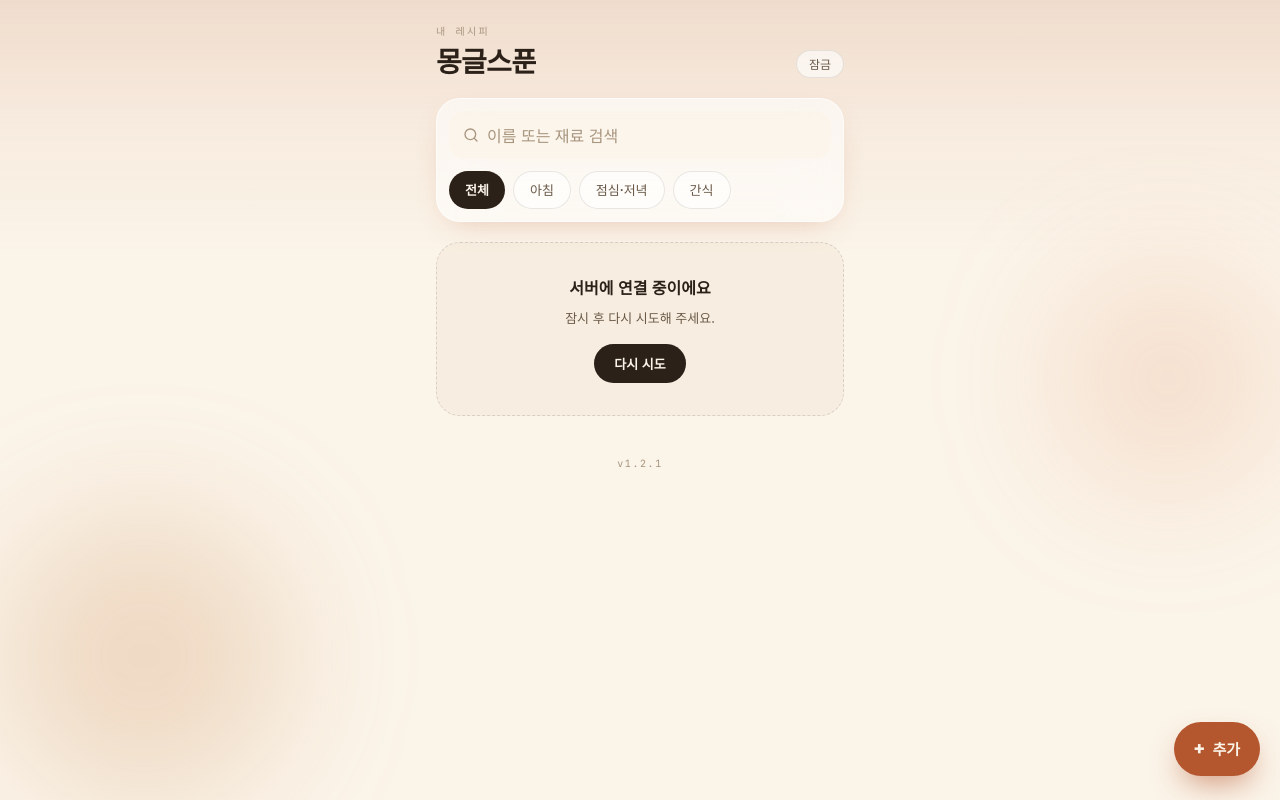
Test: RecipeListScreen loading › offers a retry button after every automatic retry fails
This screenshot has width=1280, height=800.
Expected: the message shows "서버에 연결 중이에요", [569, 274, 711, 298]
Click the button "다시 시도": (640, 363) [594, 344, 686, 383]
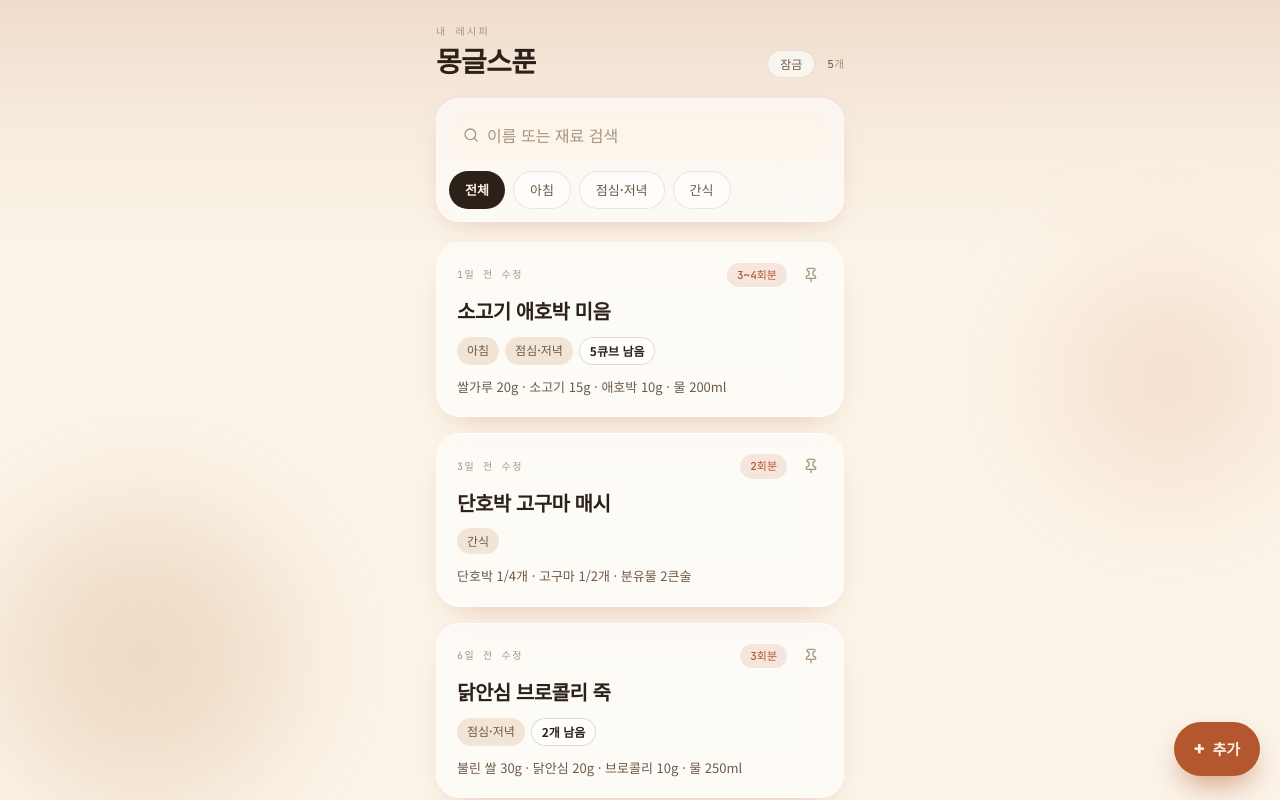
Now the heading "소고기 애호박 미음" is shown, box [457, 296, 610, 325]
Now the message "서버에 연결 중이에요 잠시 후 다시 시도해 주세요. 다시 시도" is gone
Now the element with test id "recipe-count" reads "5개", box [827, 56, 844, 72]
